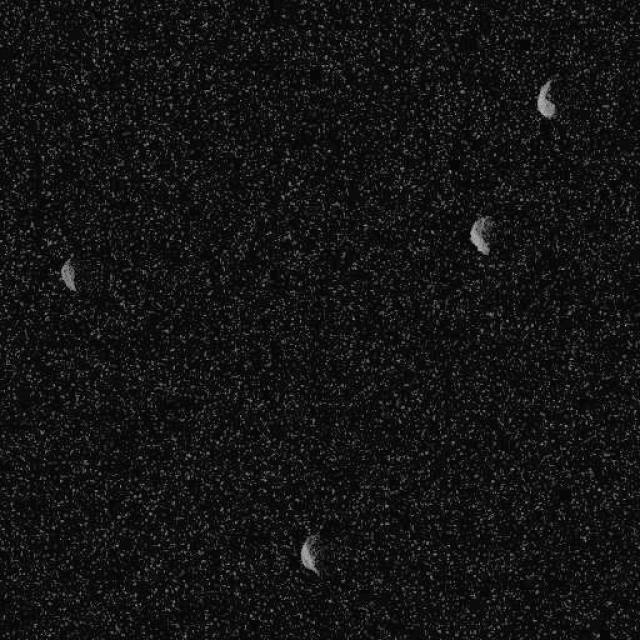D2: (467, 214, 495, 255), (298, 532, 322, 576), (535, 76, 557, 120), (58, 256, 78, 292)
